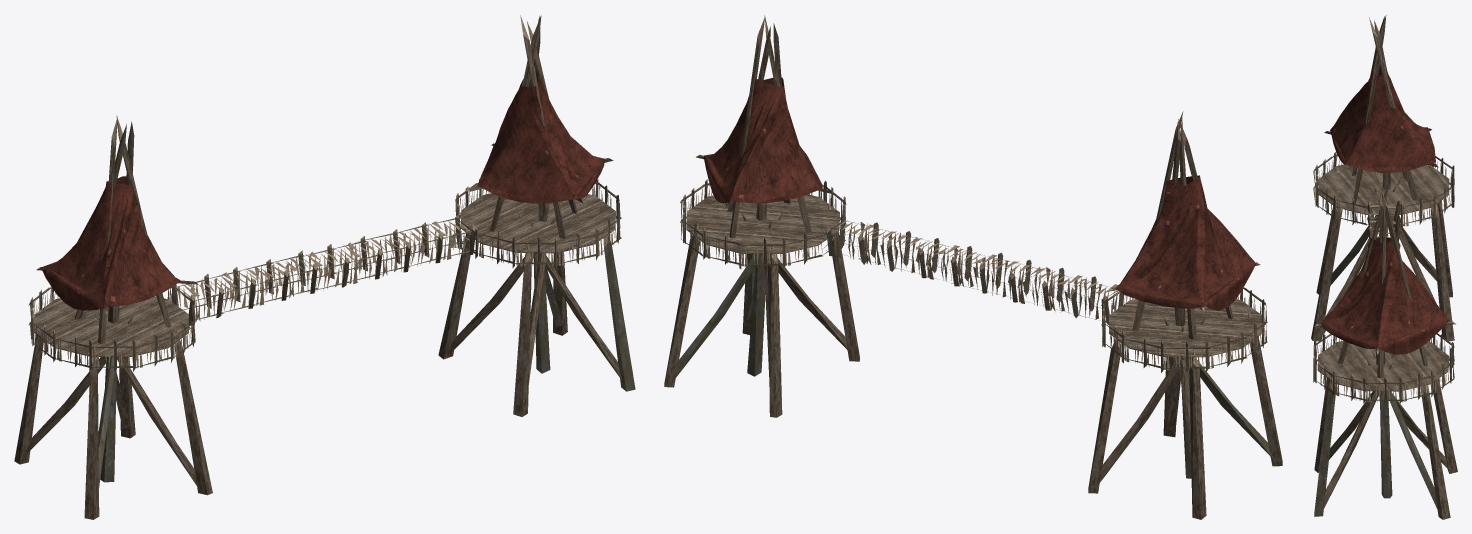
File: puente_madera.glb
3 views of the same model, side by side, from view 1: azimuth 30°, elevation 25°; view 2: azimuth 150°, elevation 25°; view 3: azimuth 270°, elevation 25° (orthographic). The views are drawn at different scales.
Visible parts, largest first — view 1: puente_madera; view 2: puente_madera; view 3: puente_madera.
Boxes of the visible parts, x1,y1,x2,y2 form: puente_madera: [14, 15, 635, 519]; puente_madera: [664, 15, 1282, 519]; puente_madera: [1311, 15, 1457, 519].
Bounding box in the file's own units: 9.83 × 5.95 × 2.59.
Materials: 5 (5 with a texture image).
